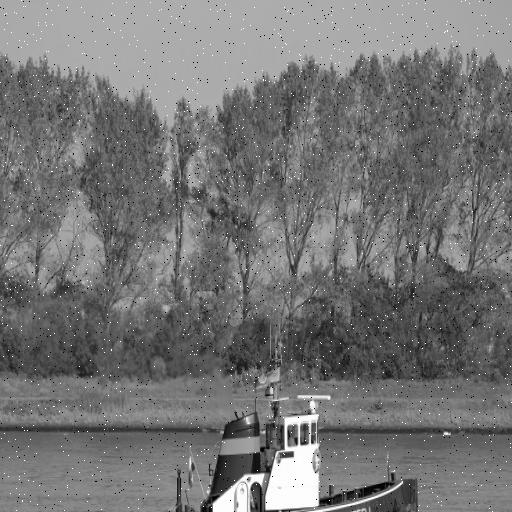tugboat: (1, 323, 424, 512)
